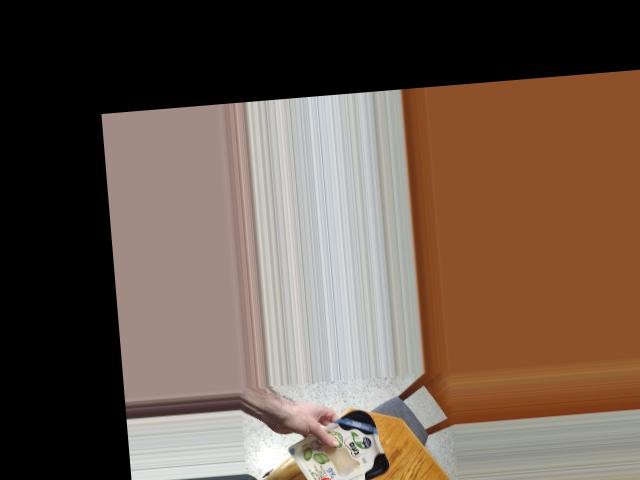cheese: (302, 411, 395, 480)
